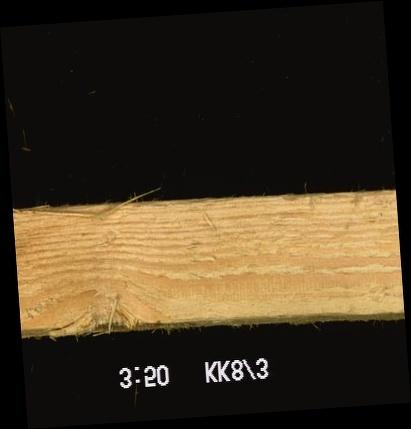edge_knot: (50, 297, 179, 333)
